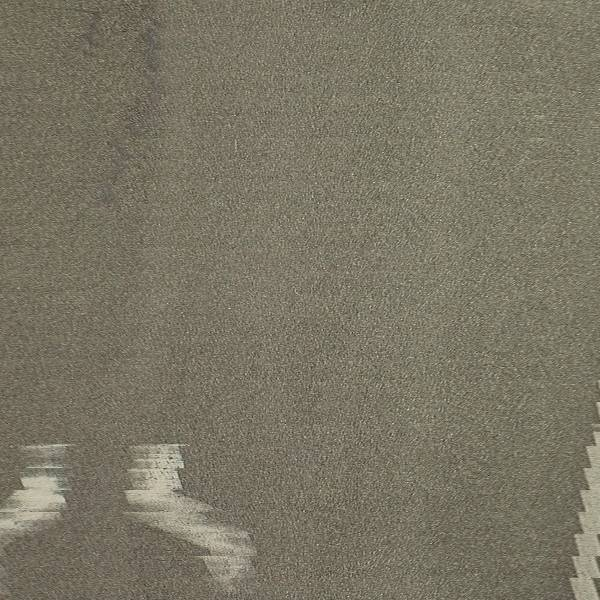road_damage: (85, 18, 168, 228)
